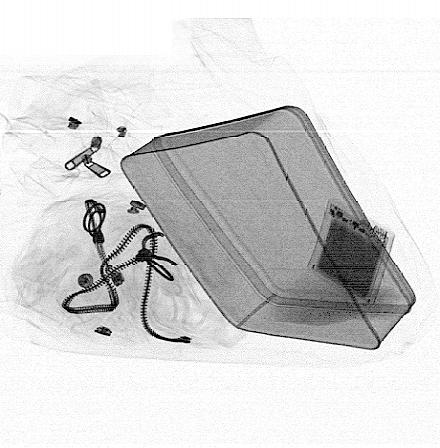Powerbank: (307, 199, 395, 306)
